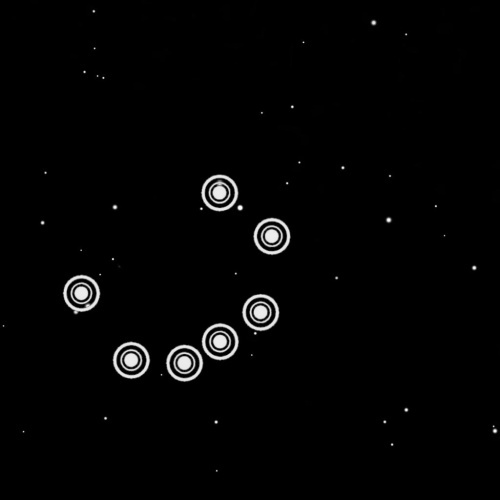corona_borealis: (57, 164, 292, 386)
